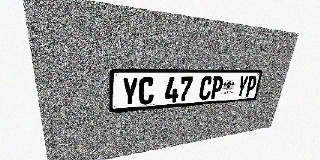4: (164, 77, 180, 103)
7: (178, 77, 193, 102)
C: (138, 77, 155, 105), (198, 76, 213, 100)
P: (210, 76, 224, 99), (244, 76, 258, 97)
Y: (122, 77, 139, 107), (235, 76, 249, 97)
